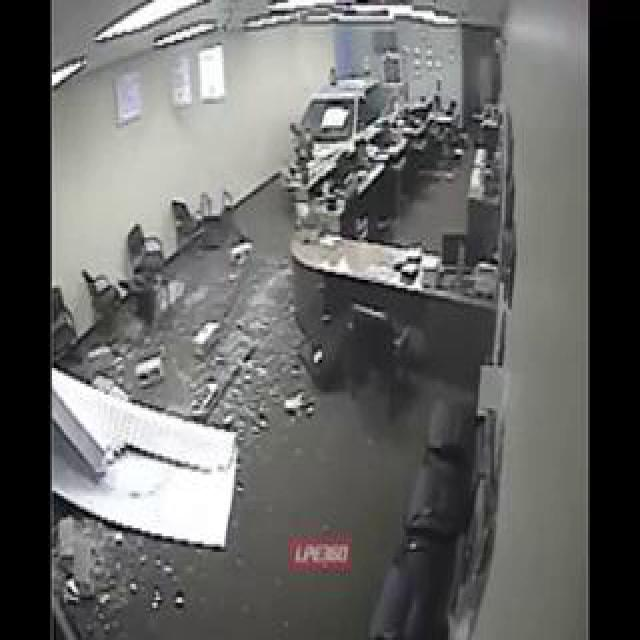burglary: (181, 108, 510, 472)
